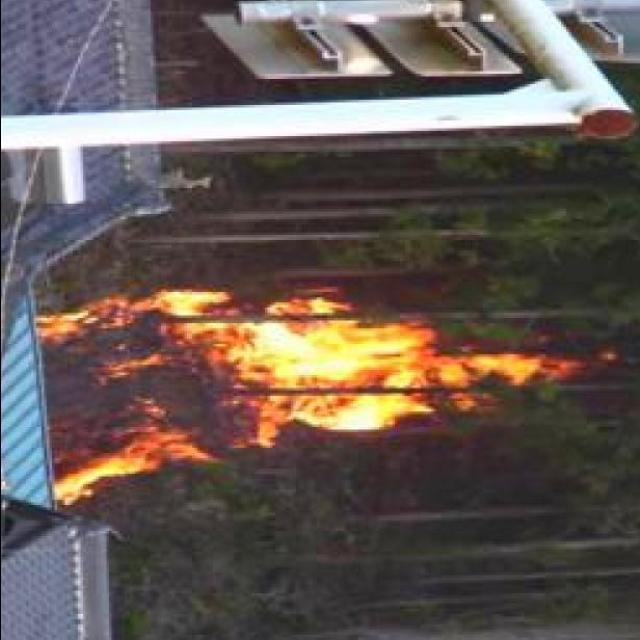Fire: (38, 294, 569, 489)
